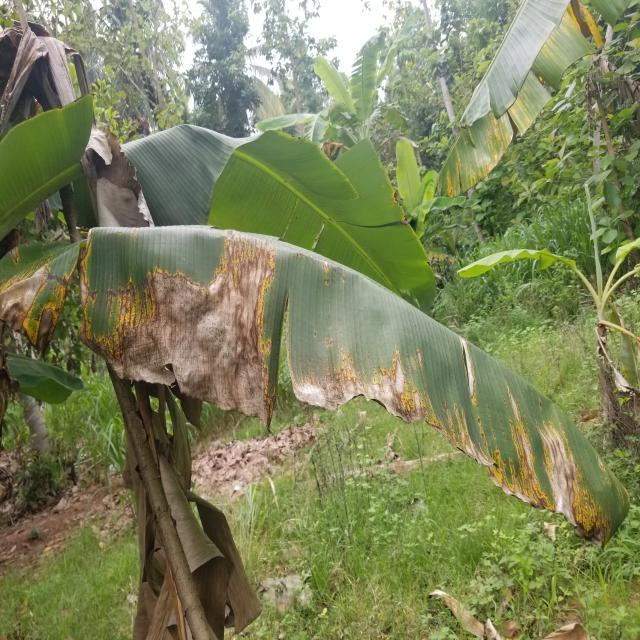Early_rust: (1, 219, 631, 558), (416, 0, 612, 207)
